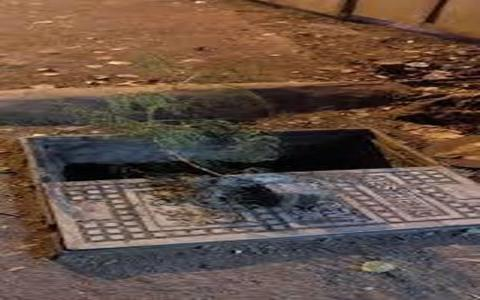open manhole: (18, 120, 458, 201)
